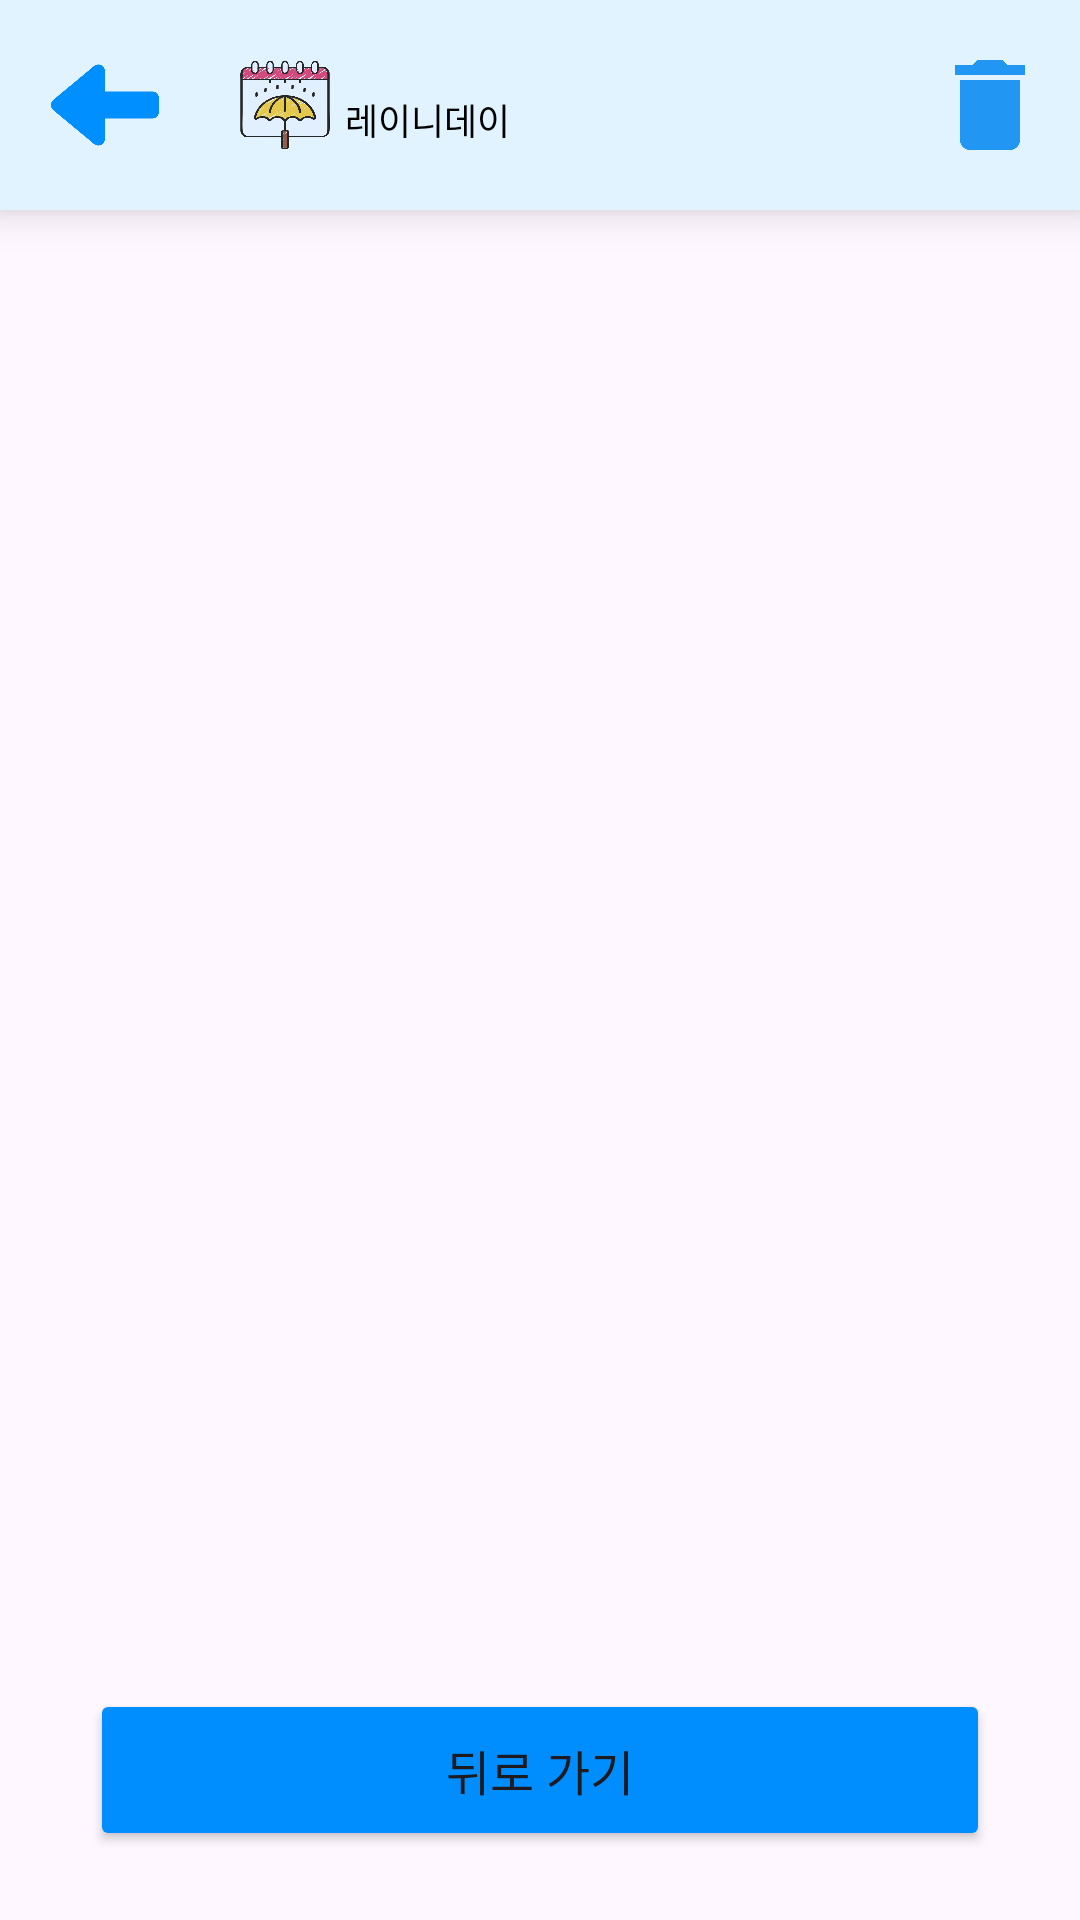

Locate icon controls on the screen. Image size 1080px×1920px, boxes as Rect(x1, y1, x2, y2).
back: Rect(51, 64, 159, 146)
rainyday: Rect(240, 60, 330, 149)
